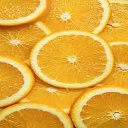orange: (29, 30, 118, 90)
